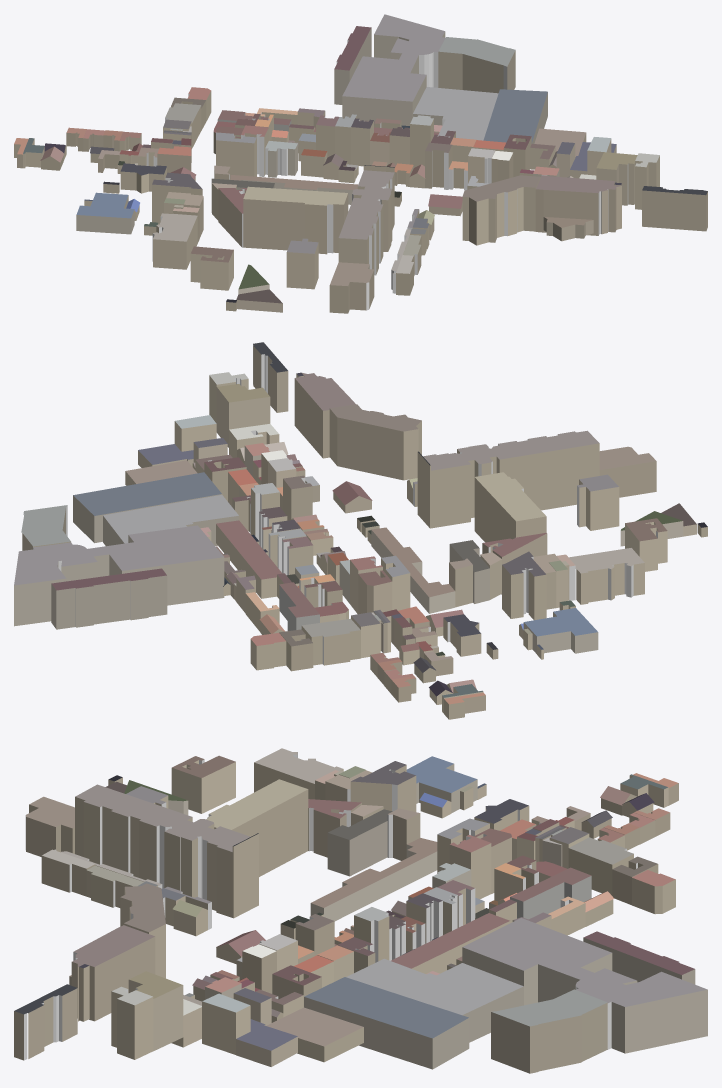
The picture shows the model from 3 angles, top to bottom: view 1: azimuth 30°, elevation 25°; view 2: azimuth 150°, elevation 25°; view 3: azimuth 270°, elevation 25°; orthographic projection. The views are drawn at different scales.
Parts seen in each view (by area): view 1: tuile; view 2: tuile; view 3: tuile.
Boxes of the visible parts, x1=… form: tuile: x1=14, y1=14, x2=707, y2=313; tuile: x1=14, y1=342, x2=707, y2=719; tuile: x1=14, y1=748, x2=707, y2=1073.
Bounding box in the file's own units: 279 × 37.14 × 276.
